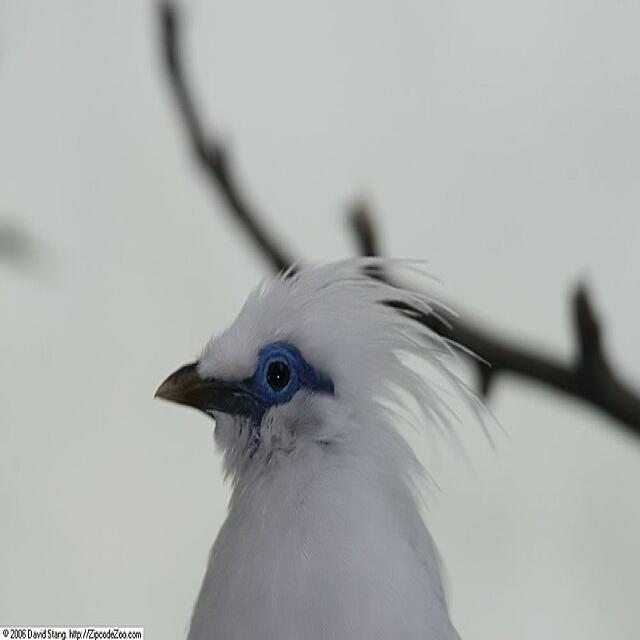Jalak Bali: (127, 237, 515, 640)
